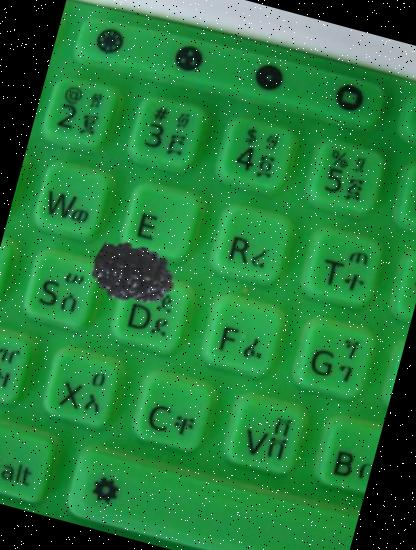Mulberry: (82, 224, 185, 327)
